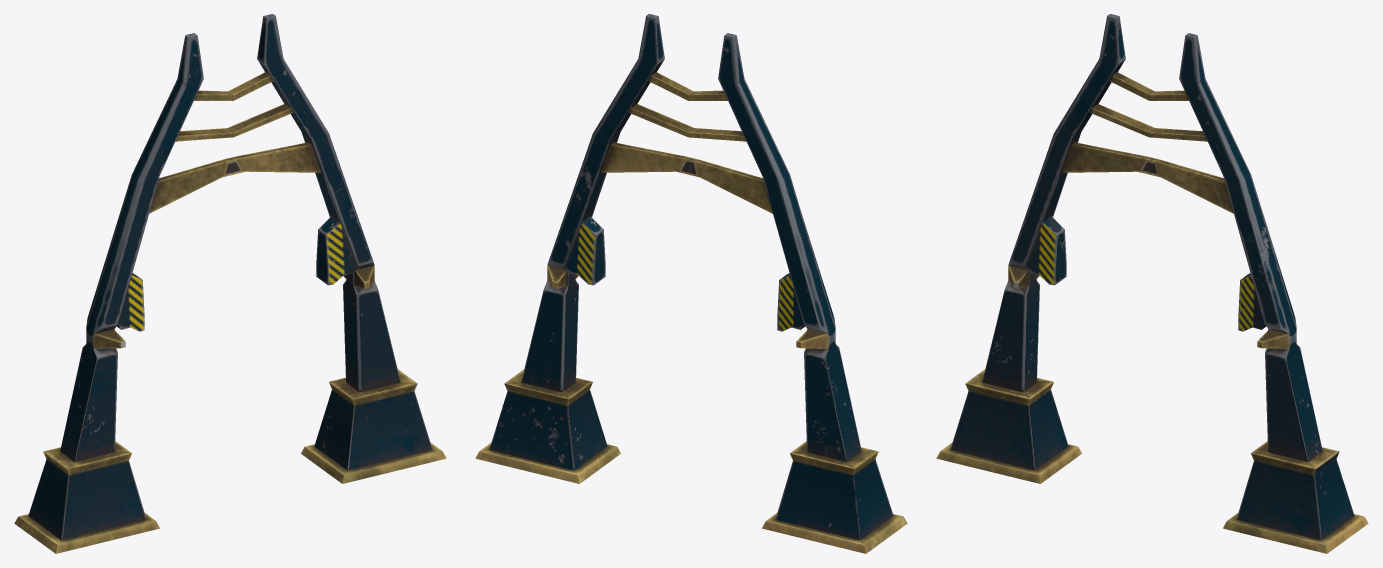
The model's file is ENV0410001.FBX.
3 renders of one model, left to right at view 1: azimuth 30°, elevation 25°; view 2: azimuth 150°, elevation 25°; view 3: azimuth 330°, elevation 25°, orthographic.
Visible parts, largest first — view 1: smENV0410001; view 2: smENV0410001; view 3: smENV0410001.
Part boxes in pixels (bbox=[...]): smENV0410001: bbox=[14, 14, 446, 553]; smENV0410001: bbox=[475, 14, 907, 553]; smENV0410001: bbox=[936, 14, 1368, 553].
Bounding box in the file's own units: 159 × 181 × 29.35.
1 material, 1 textured.
